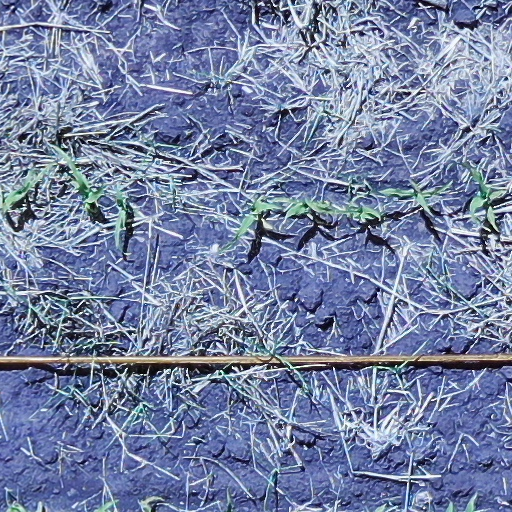planta: (51, 143, 107, 207), (376, 181, 452, 210), (469, 167, 503, 230), (235, 199, 283, 237), (3, 165, 36, 213), (272, 197, 334, 222), (112, 182, 128, 250), (336, 207, 383, 224)
